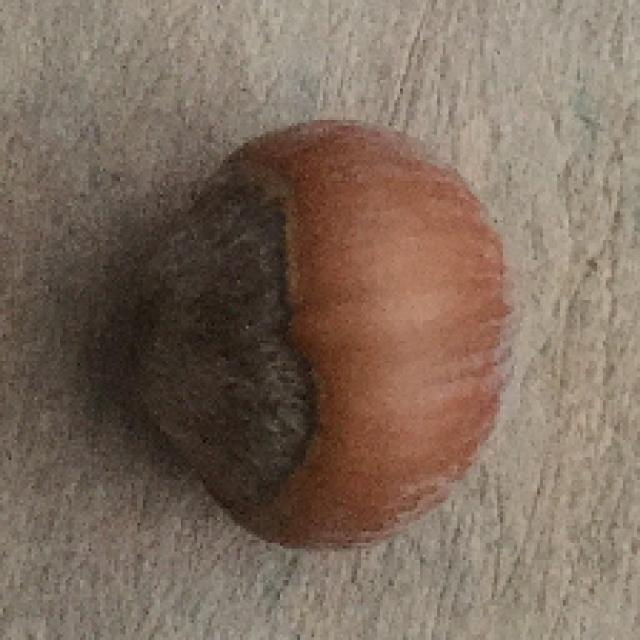qualityHazelnut: (119, 108, 521, 550)
